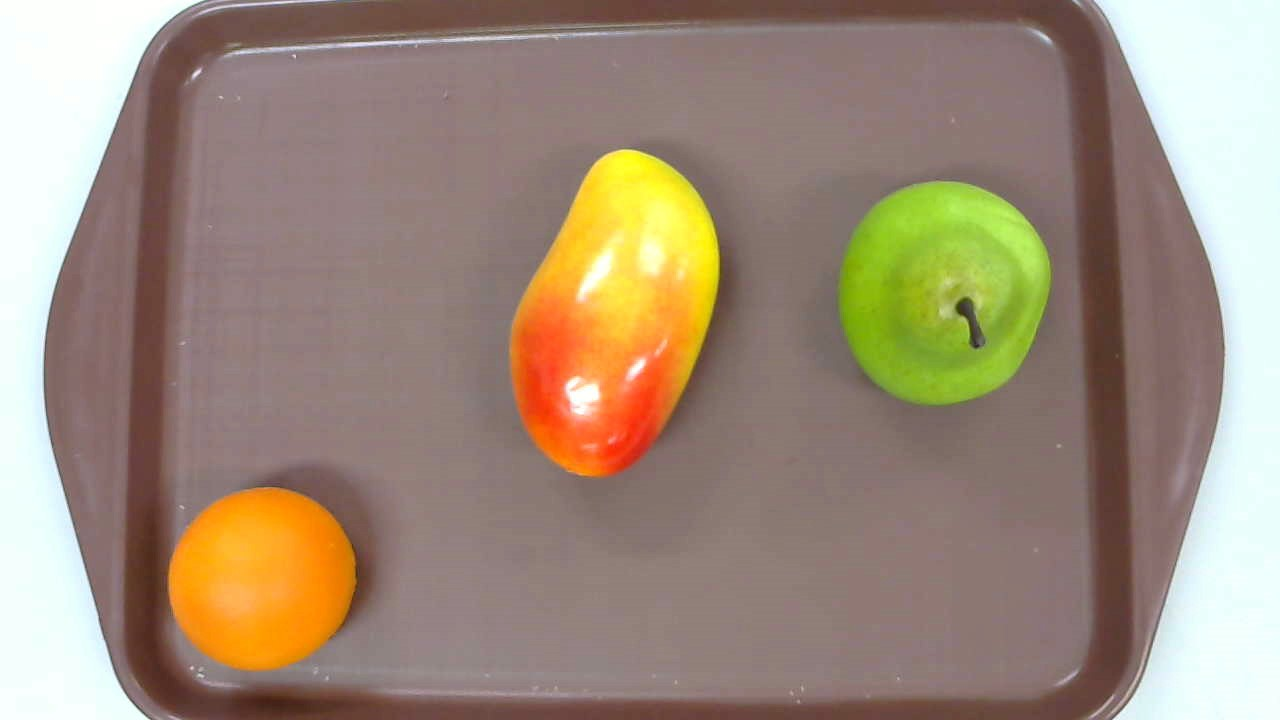bun: (168, 487, 356, 670)
green pear: (838, 179, 1050, 404)
red mango: (509, 148, 720, 478)
